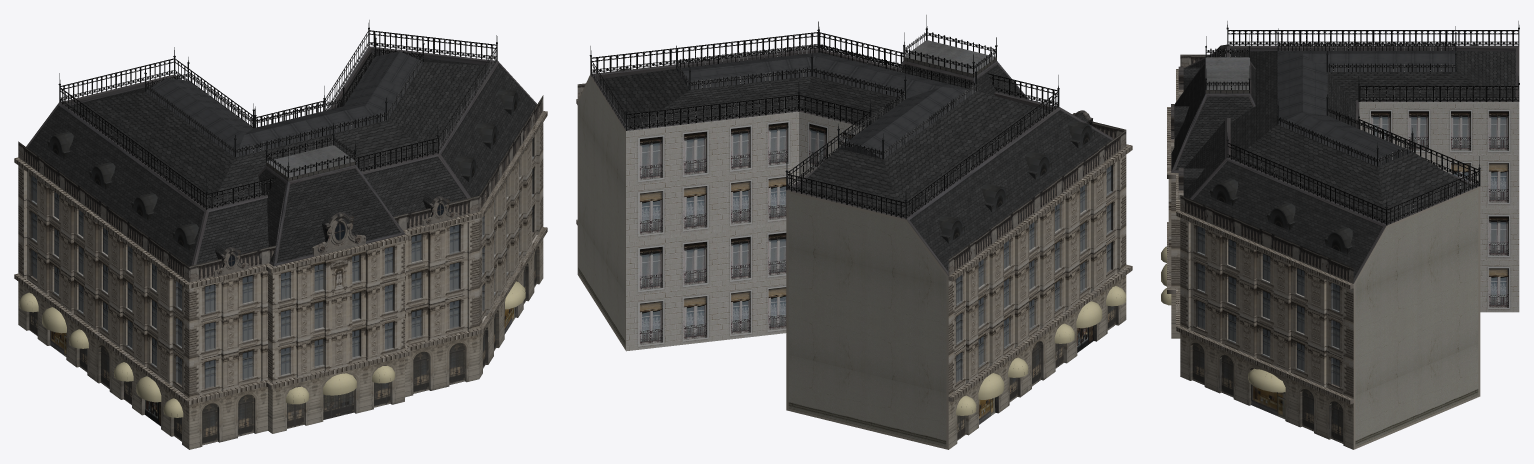
File: german135.fbx
3 renders of one model, left to right at view 1: azimuth 30°, elevation 25°; view 2: azimuth 150°, elevation 25°; view 3: azimuth 270°, elevation 25°, orthographic. The views are drawn at different scales.
Visible parts, largest first — view 1: german135; view 2: german135; view 3: german135.
Boxes of the visible parts, bbox=[...] form: german135: bbox=[14, 20, 547, 449]; german135: bbox=[576, 15, 1132, 449]; german135: bbox=[1161, 21, 1519, 449].
Size of the model in its own units: 4668 by 2556 by 3215.
1 material, 1 textured.
